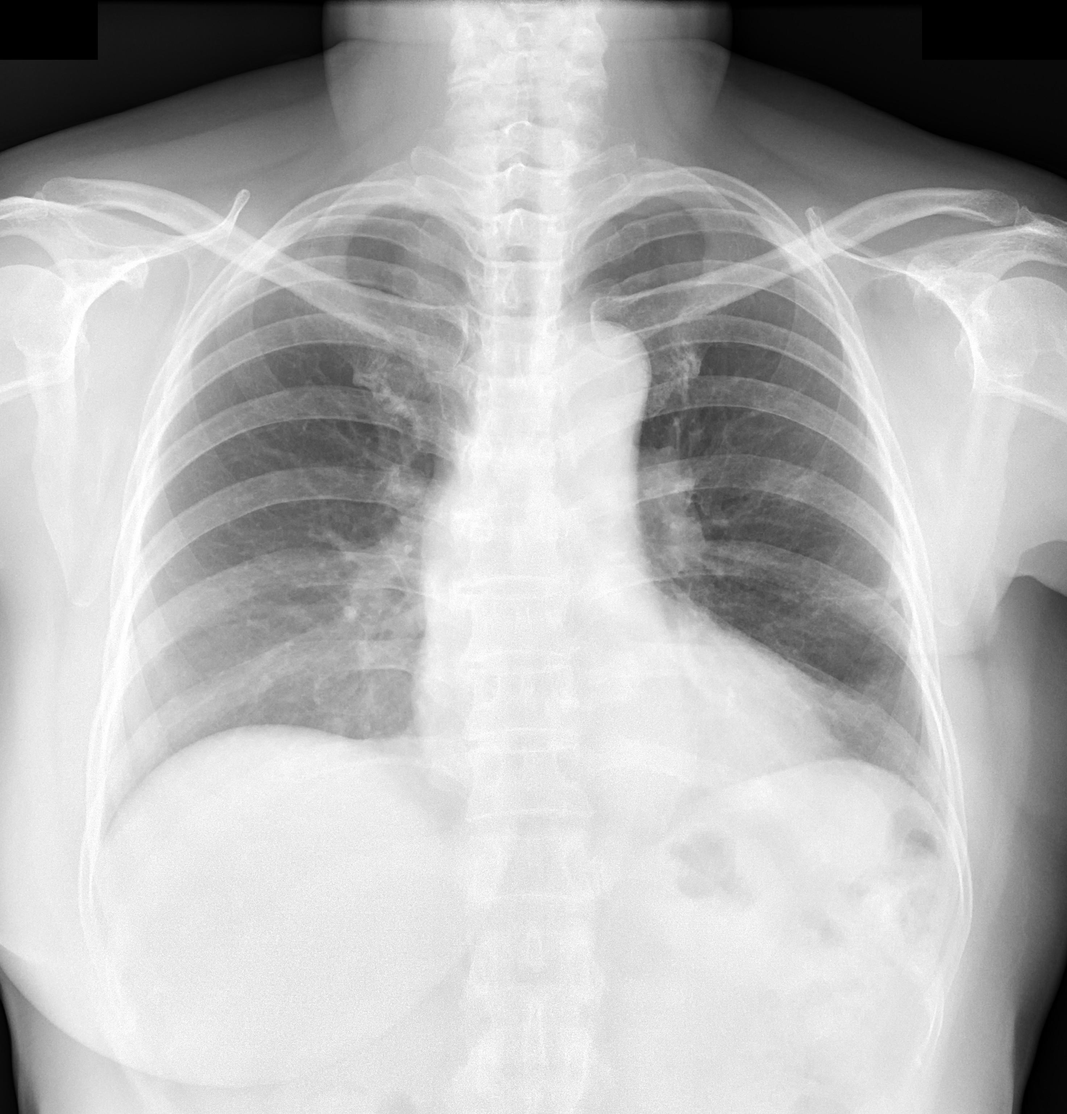Aortic enlargement: (528, 319, 651, 423)
Cardiomegaly: (406, 660, 849, 826)
Pleural thickening: (608, 187, 748, 215), (295, 198, 425, 225)
